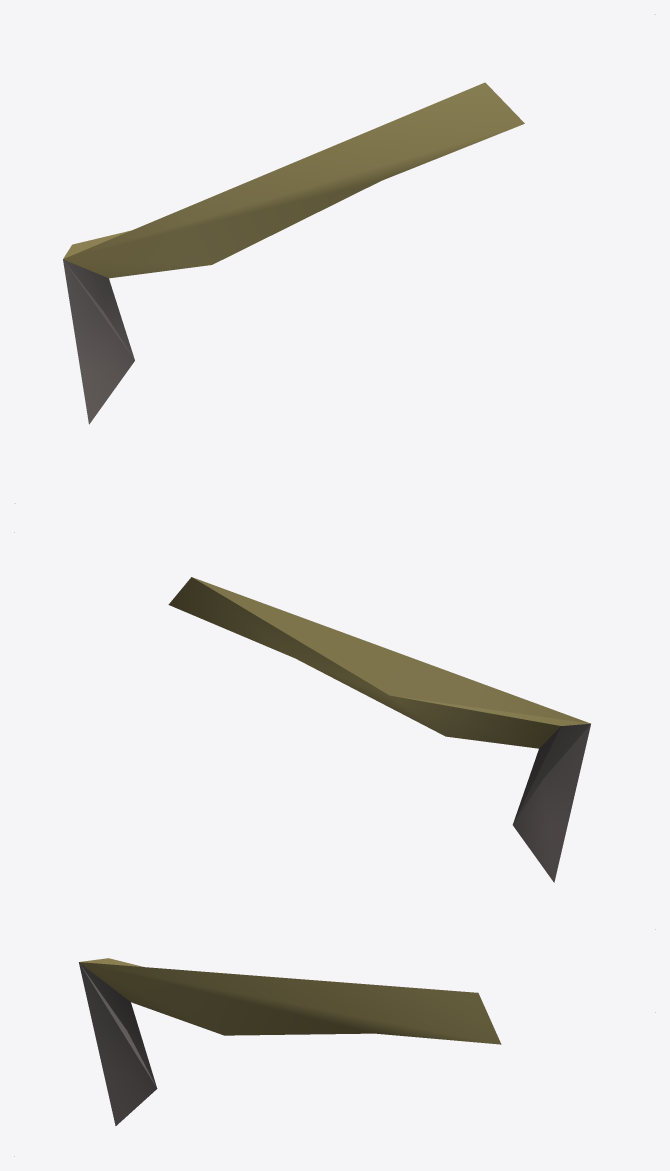
Rendered from Axt_LOD0.dae.
The picture shows the model from 3 angles, top to bottom: view 1: azimuth 30°, elevation 25°; view 2: azimuth 150°, elevation 25°; view 3: azimuth 330°, elevation 25°; orthographic projection. The views are drawn at different scales.
Parts seen in each view (by area): view 1: Axt_LOD0; view 2: Axt_LOD0; view 3: Axt_LOD0.
Boxes of the visible parts, bbox=[...] form: Axt_LOD0: bbox=[14, 14, 655, 503]; Axt_LOD0: bbox=[14, 532, 655, 929]; Axt_LOD0: bbox=[14, 958, 655, 1156].
Bounding box in the file's own units: 0.27 × 0.0242 × 0.1143.
1 material, 1 textured.
